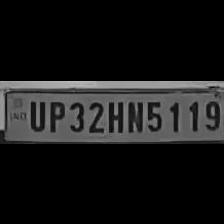1: (165, 96, 183, 132), (183, 96, 200, 132)
2: (85, 97, 105, 133)
3: (64, 96, 84, 132)
5: (142, 96, 164, 132)
9: (201, 96, 221, 130)
H: (105, 97, 125, 133)
N: (124, 97, 142, 133)
P: (45, 96, 65, 132)
U: (25, 97, 45, 131)
